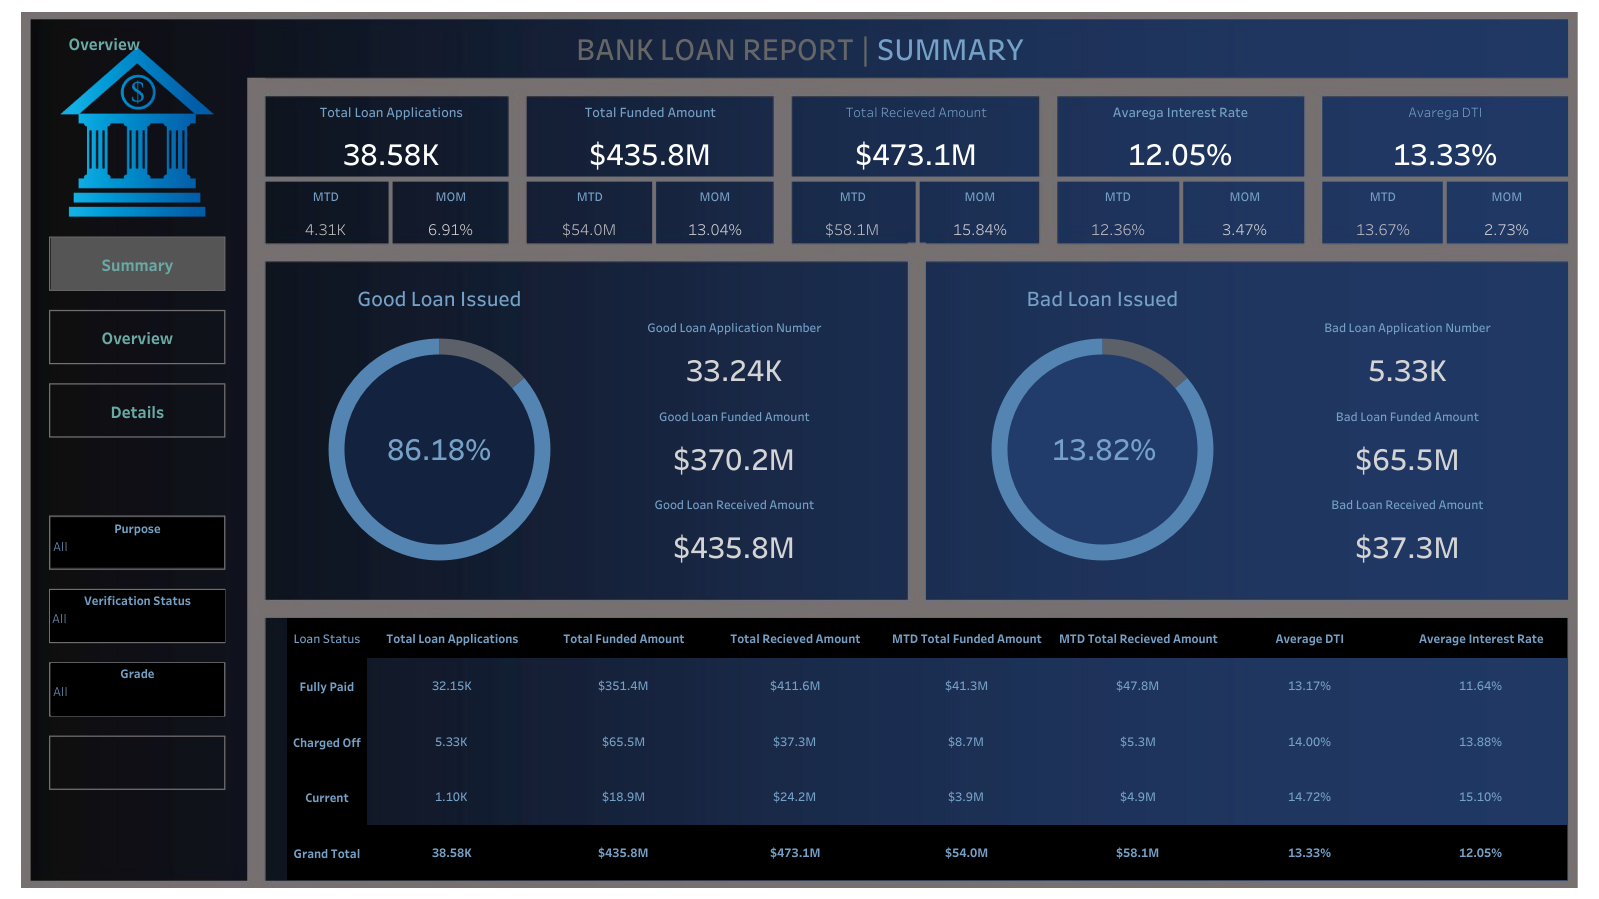

The dashboard page shown, as its layout file describes it:
{"tool":"tableau","page":{"name":"Summary","canvas":[1600,900],"ordinal":2},"visuals":[{"type":"image","param":"Image/details.jpg","box":[8,8,1584,884]},{"type":"text","box":[400,8,800,80]},{"type":"dashboard-object","box":[18,18,173,51]},{"type":"worksheet","title":"Total Loan Applications","mark":"Automatic","box":[269,96,245,81]},{"type":"worksheet","title":"Total Funded Amount","mark":"Automatic","box":[528,96,245,81]},{"type":"worksheet","title":"Total Recieved Amount","mark":"Automatic","box":[794,96,245,81]},{"type":"worksheet","title":"Avarega Interest Rate","mark":"Automatic","box":[1058,96,245,81]},{"type":"worksheet","title":"Avarega DTI","mark":"Automatic","box":[1323,96,245,81]},{"type":"worksheet","title":"MTD Total Loan Applications","mark":"Automatic","box":[273,181,106,63]},{"type":"worksheet","title":"MOM Total Loan Applications","mark":"Automatic","box":[398,181,106,63]},{"type":"worksheet","title":"MTD Total Funded Amount","mark":"Automatic","box":[537,181,106,63]},{"type":"worksheet","title":"MOM Total Funded Amount","mark":"Automatic","box":[662,181,106,63]},{"type":"worksheet","title":"MTD Total Received Amount","mark":"Automatic","box":[800,181,106,63]},{"type":"worksheet","title":"MOM Total Received Amount","mark":"Automatic","box":[927,181,106,63]},{"type":"worksheet","title":"MTD Average Interest Rate","mark":"Automatic","box":[1065,181,106,63]},{"type":"worksheet","title":"MOM Average Interest Rate","mark":"Automatic","box":[1192,181,106,63]},{"type":"worksheet","title":"MTD Average DTI","mark":"Automatic","box":[1330,181,106,63]},{"type":"worksheet","title":"MOM Average DTI","mark":"Automatic","box":[1454,181,106,63]},{"type":"dashboard-object","box":[51,238,173,52]},{"type":"worksheet","title":"Good Loan Issued","mark":"Pie","rows":["Calculation_152277994747613206","Calculation_152277994747613206"],"box":[277,278,325,300]},{"type":"worksheet","title":"Bad Loan Issued","mark":"Pie","rows":["Calculation_152277994747613206","Calculation_152277994747613206"],"box":[940,278,325,300]},{"type":"worksheet","title":"Good Loan Application Number","mark":"Automatic","box":[591,308,287,89]},{"type":"worksheet","title":"Bad Loan Application Number","mark":"Automatic","box":[1264,308,287,89]},{"type":"dashboard-object","box":[51,311,173,52]},{"type":"dashboard-object","box":[51,385,173,52]},{"type":"worksheet","title":"Good Loan Funded Amount","mark":"Automatic","box":[591,397,287,89]},{"type":"worksheet","title":"Bad Loan Funded Amount","mark":"Automatic","box":[1264,397,287,89]},{"type":"worksheet","title":"Good Loan Application %","mark":"Automatic","box":[368,401,144,79]},{"type":"worksheet","title":"Bad Loan Application %","mark":"Automatic","box":[1028,401,153,79]},{"type":"worksheet","title":"Good Loan Received Amount","mark":"Automatic","box":[591,485,287,89]},{"type":"worksheet","title":"Bad Loan Received Amount","mark":"Automatic","box":[1264,485,287,89]},{"type":"filter","title":"Good Loan Issued","param":"[federated.054zzhb0m2kzyd1e27fpj0euf85e].[none:purpose:nk]","box":[51,518,173,49]},{"type":"filter","title":"Good Loan Issued","param":"[federated.054zzhb0m2kzyd1e27fpj0euf85e].[none:verification_status:nk]","box":[50,590,175,52]},{"type":"worksheet","title":"Loan Status","mark":"Automatic","rows":["loan_status"],"box":[287,618,1280,262]},{"type":"filter","title":"Good Loan Issued","param":"[federated.054zzhb0m2kzyd1e27fpj0euf85e].[none:grade:nk]","box":[51,663,173,53]}]}

Visuals, with their boxes in screenshot pixels (x1, y1, x2, y2), scaled from the page's 1600x900 canvas onto the 1599x899 screenshot:
image: detection(8, 8, 1591, 891)
text: detection(400, 8, 1199, 88)
dashboard-object: detection(18, 18, 191, 69)
"Total Loan Applications" worksheet: detection(269, 96, 514, 177)
"Total Funded Amount" worksheet: detection(528, 96, 773, 177)
"Total Recieved Amount" worksheet: detection(794, 96, 1038, 177)
"Avarega Interest Rate" worksheet: detection(1057, 96, 1302, 177)
"Avarega DTI" worksheet: detection(1322, 96, 1567, 177)
"MTD Total Loan Applications" worksheet: detection(273, 181, 379, 244)
"MOM Total Loan Applications" worksheet: detection(398, 181, 504, 244)
"MTD Total Funded Amount" worksheet: detection(537, 181, 643, 244)
"MOM Total Funded Amount" worksheet: detection(662, 181, 768, 244)
"MTD Total Received Amount" worksheet: detection(800, 181, 905, 244)
"MOM Total Received Amount" worksheet: detection(926, 181, 1032, 244)
"MTD Average Interest Rate" worksheet: detection(1064, 181, 1170, 244)
"MOM Average Interest Rate" worksheet: detection(1191, 181, 1297, 244)
"MTD Average DTI" worksheet: detection(1329, 181, 1435, 244)
"MOM Average DTI" worksheet: detection(1453, 181, 1559, 244)
dashboard-object: detection(51, 238, 224, 290)
"Good Loan Issued" worksheet (Pie marks): detection(277, 278, 602, 577)
"Bad Loan Issued" worksheet (Pie marks): detection(939, 278, 1264, 577)
"Good Loan Application Number" worksheet: detection(591, 308, 877, 397)
"Bad Loan Application Number" worksheet: detection(1263, 308, 1550, 397)
dashboard-object: detection(51, 311, 224, 363)
dashboard-object: detection(51, 385, 224, 437)
"Good Loan Funded Amount" worksheet: detection(591, 397, 877, 485)
"Bad Loan Funded Amount" worksheet: detection(1263, 397, 1550, 485)
"Good Loan Application %" worksheet: detection(368, 401, 512, 479)
"Bad Loan Application %" worksheet: detection(1027, 401, 1180, 479)
"Good Loan Received Amount" worksheet: detection(591, 484, 877, 573)
"Bad Loan Received Amount" worksheet: detection(1263, 484, 1550, 573)
"Good Loan Issued" filter: detection(51, 517, 224, 566)
"Good Loan Issued" filter: detection(50, 589, 225, 641)
"Loan Status" worksheet: detection(287, 617, 1566, 879)
"Good Loan Issued" filter: detection(51, 662, 224, 715)
